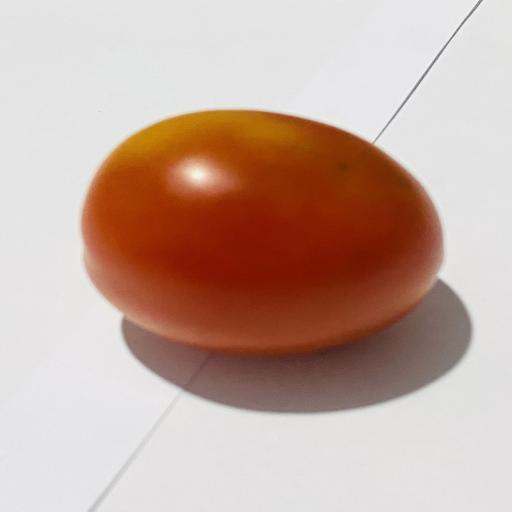ripe: (82, 110, 443, 354)
